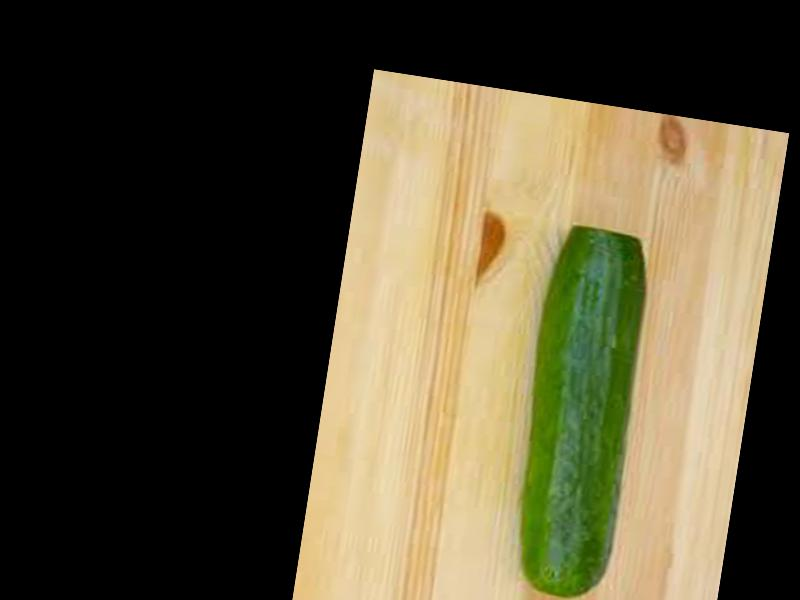Cucumber: (503, 224, 658, 600)
